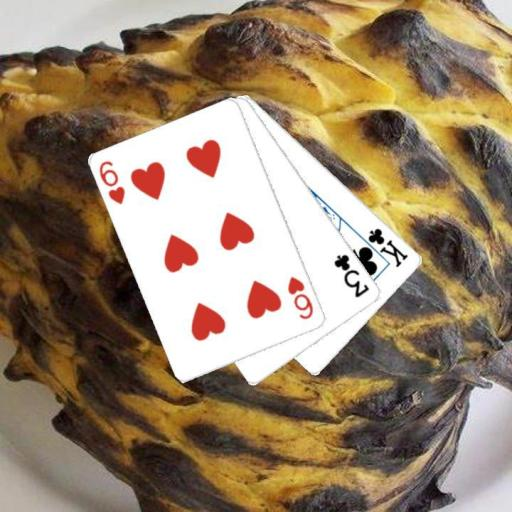3C: (331, 251, 371, 299)
6H: (96, 157, 127, 206), (284, 273, 315, 321)
KC: (356, 225, 411, 270)
